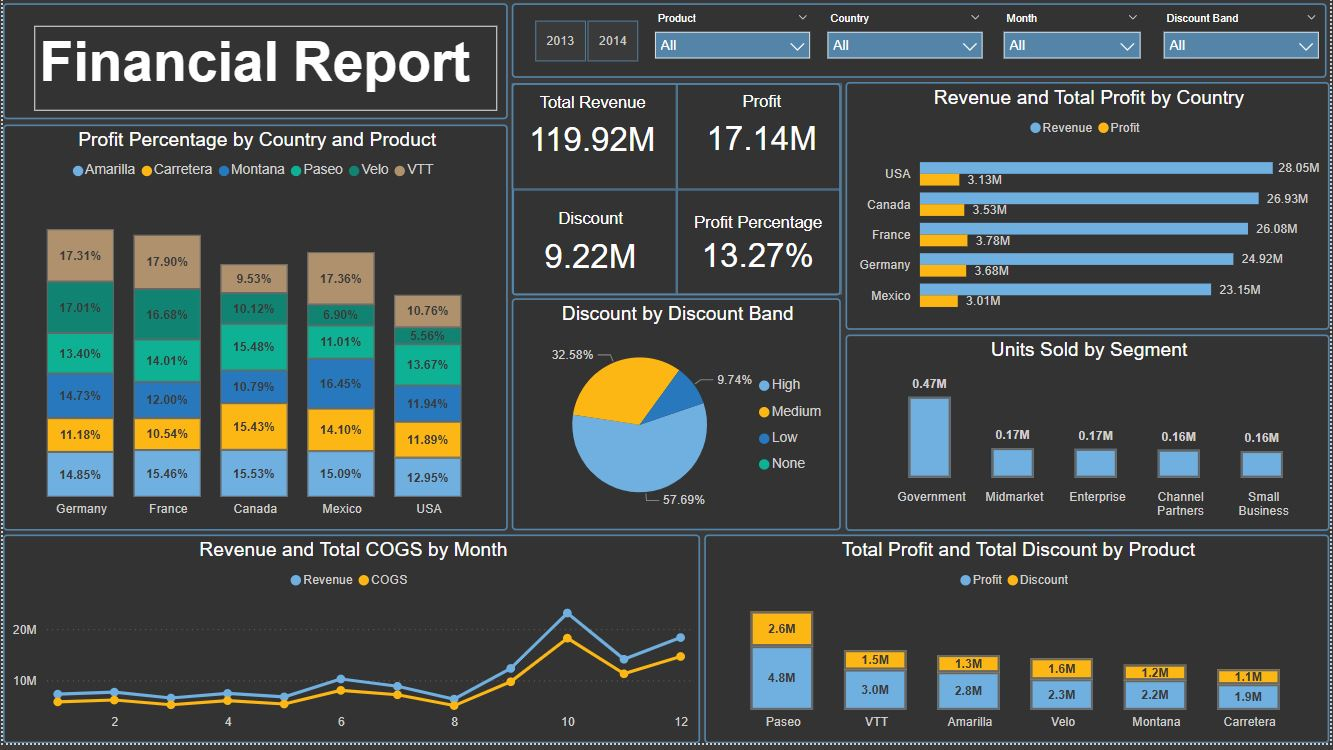

The page's visual inventory and layout, read from the dashboard file:
{"tool":"powerbi","page":{"name":"Page 1","canvas":[1280,720],"ordinal":0},"visuals":[{"type":"shape","box":[491,6,786.6,72.4],"z":0},{"type":"shape","box":[491,83.2,317.3,205.1],"z":1000},{"type":"lineChart","title":"Revenue and Total COGS by Month","fields":{"Category":["financial_sample_week5.Month Number"],"Y":["Sum(financial_sample_week5.Gross Sales)","Sum(financial_sample_week5.COGS)"]},"box":[0,518.8,673.2,201.5],"z":2000},{"type":"card","title":"Total Revenue","fields":{"Values":["Sum(financial_sample_week5. Sales)"]},"box":[465.7,92.9,206.3,71.2],"z":3000},{"type":"card","title":"Profit","fields":{"Values":["Sum(financial_sample_week5.Profit)"]},"box":[638.2,91.7,188.2,71.2],"z":4000},{"type":"card","title":"Discount","fields":{"Values":["Sum(financial_sample_week5.Discount)"]},"box":[476.5,205.1,181,72.4],"z":5000},{"type":"card","title":"Profit Percentage","fields":{"Values":["financial_sample_week5.Profit Percentage"]},"box":[628.6,208.7,200.3,62.7],"z":6000},{"type":"slicer","fields":{"Values":["financial_sample_week5.Month Name"]},"box":[955.5,9.7,152,53.1],"z":7000},{"type":"columnChart","title":"Total Profit and Total Discount by Product","fields":{"Y":["Sum(financial_sample_week5.Profit)","Sum(financial_sample_week5.Discount)"],"Category":["financial_sample_week5.Product"]},"box":[676.8,518.5,603.2,201.5],"z":8000},{"type":"slicer","fields":{"Values":["financial_sample_week5.Discount Band"]},"box":[1109.9,9.7,170.1,60.3],"z":9000},{"type":"pieChart","title":"Discount by Discount Band","fields":{"Y":["Sum(financial_sample_week5.Discount)"],"Category":["financial_sample_week5.Discount Band"]},"box":[491,290.8,317.3,224],"z":10000},{"type":"clusteredBarChart","title":"Revenue and Total Profit by Country","fields":{"Category":["financial_sample_week5.Country"],"Y":["Sum(financial_sample_week5.Gross Sales)","Sum(financial_sample_week5.Profit)"]},"box":[813.1,82,466.9,238.9],"z":11000},{"type":"slicer","fields":{"Values":["financial_sample_week5.Year"]},"box":[487.4,15.7,149.6,53.1],"z":12000},{"type":"clusteredColumnChart","title":"Units Sold by Segment","fields":{"Category":["financial_sample_week5.Segment"],"Y":["Sum(financial_sample_week5.Units Sold)"]},"box":[813.1,325.7,466.9,189.4],"z":13000},{"type":"slicer","fields":{"Values":["financial_sample_week5.Country"]},"box":[785.4,9.7,170.1,60.3],"z":14000},{"type":"slicer","fields":{"Values":["financial_sample_week5.Product"]},"box":[618.9,9.7,170.1,60.3],"z":15000},{"type":"shape","box":[491,83.2,159.3,102.5],"z":16000},{"type":"shape","box":[650.3,83.2,159.3,102.5],"z":17000},{"type":"shape","box":[650.3,185.8,159.3,101.3],"z":18000},{"type":"shape","box":[492.2,185.8,158,101.3],"z":19000},{"type":"columnChart","fields":{"Category":["financial_sample_week5.Country"],"Y":["financial_sample_week5.Profit Percentage"],"Series":["financial_sample_week5.Product"]},"box":[0,123.1,487.4,392.1],"z":20000},{"type":"shape","box":[0,6,487.4,112.2],"z":20001},{"type":"textbox","box":[30.2,27.7,446.4,82],"z":20002}]}

Visuals, with their boxes in screenshot pixels (x1, y1, x2, y2), scaled from the page's 1280x720 canvas onto the 1333x750 screenshot:
shape: {"x1": 511, "y1": 6, "x2": 1331, "y2": 82}
shape: {"x1": 511, "y1": 87, "x2": 842, "y2": 300}
"Revenue and Total COGS by Month" lineChart: {"x1": 0, "y1": 540, "x2": 701, "y2": 749}
"Total Revenue" card: {"x1": 485, "y1": 97, "x2": 700, "y2": 171}
"Profit" card: {"x1": 665, "y1": 96, "x2": 861, "y2": 170}
"Discount" card: {"x1": 496, "y1": 214, "x2": 685, "y2": 289}
"Profit Percentage" card: {"x1": 655, "y1": 217, "x2": 863, "y2": 283}
slicer - financial_sample_week5.Month Name: {"x1": 995, "y1": 10, "x2": 1153, "y2": 65}
"Total Profit and Total Discount by Product" columnChart: {"x1": 705, "y1": 540, "x2": 1332, "y2": 749}
slicer - financial_sample_week5.Discount Band: {"x1": 1156, "y1": 10, "x2": 1332, "y2": 73}
"Discount by Discount Band" pieChart: {"x1": 511, "y1": 303, "x2": 842, "y2": 536}
"Revenue and Total Profit by Country" clusteredBarChart: {"x1": 847, "y1": 85, "x2": 1332, "y2": 334}
slicer - financial_sample_week5.Year: {"x1": 508, "y1": 16, "x2": 663, "y2": 72}
"Units Sold by Segment" clusteredColumnChart: {"x1": 847, "y1": 339, "x2": 1332, "y2": 537}
slicer - financial_sample_week5.Country: {"x1": 818, "y1": 10, "x2": 995, "y2": 73}
slicer - financial_sample_week5.Product: {"x1": 645, "y1": 10, "x2": 822, "y2": 73}
shape: {"x1": 511, "y1": 87, "x2": 677, "y2": 193}
shape: {"x1": 677, "y1": 87, "x2": 843, "y2": 193}
shape: {"x1": 677, "y1": 194, "x2": 843, "y2": 299}
shape: {"x1": 513, "y1": 194, "x2": 677, "y2": 299}
columnChart - financial_sample_week5.Country x financial_sample_week5.Profit Percentage: {"x1": 0, "y1": 128, "x2": 508, "y2": 537}
shape: {"x1": 0, "y1": 6, "x2": 508, "y2": 123}
textbox: {"x1": 31, "y1": 29, "x2": 496, "y2": 114}
